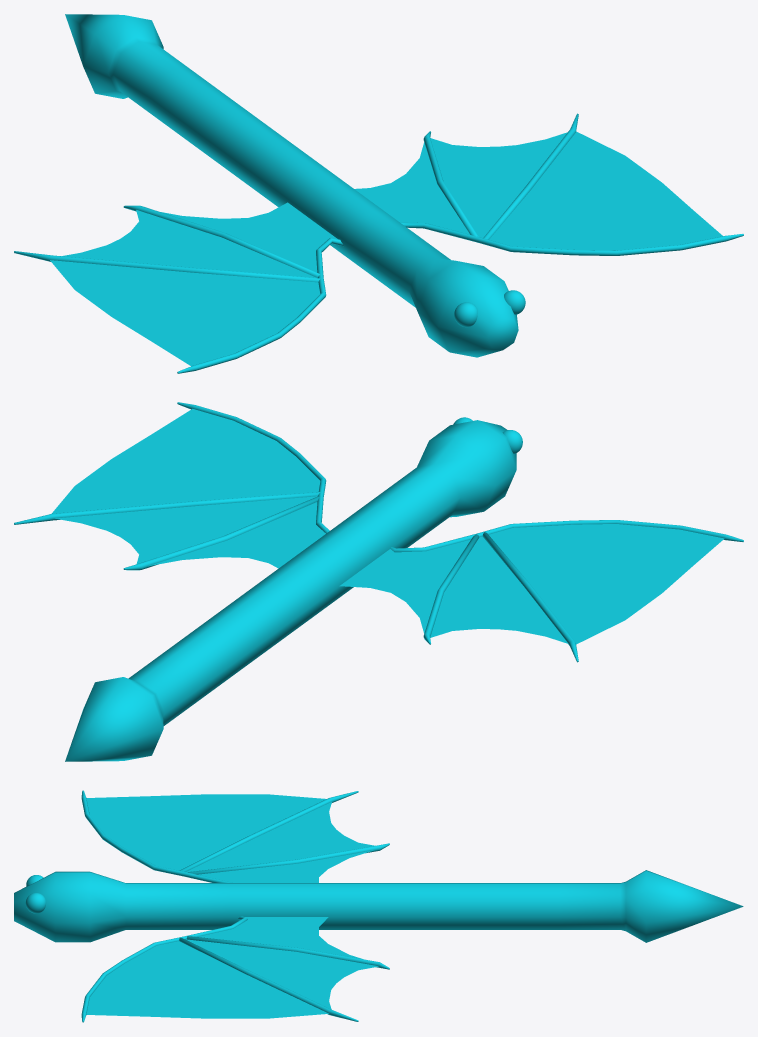
Rendered from flying ghost snake.fbx.
The picture shows the model from 3 angles, top to bottom: view 1: azimuth 30°, elevation 25°; view 2: azimuth 150°, elevation 25°; view 3: azimuth 270°, elevation 25°; orthographic projection. The views are drawn at different scales.
Visible parts, largest first — view 1: Cylinder.001; view 2: Cylinder.001; view 3: Cylinder.001.
Part boxes in pixels (left/top/right/bottom): Cylinder.001: left=14, top=14, right=743, bottom=373; Cylinder.001: left=14, top=402, right=743, bottom=761; Cylinder.001: left=14, top=790, right=743, bottom=1022.
Size of the model in its own units: 1098 by 156 by 1468.
